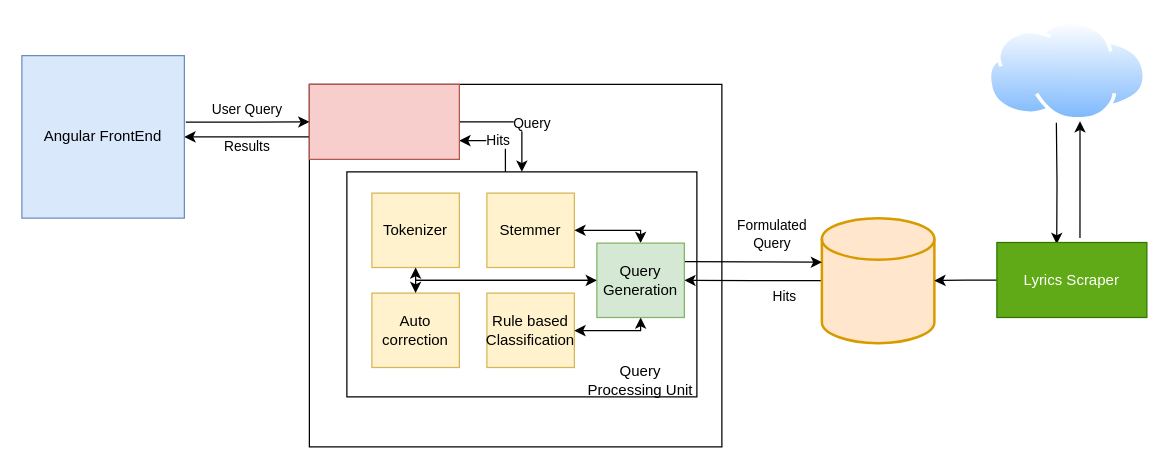
Some shapes in this 1169 by 469 pixel diagram are drawn without their labels. The shapes that lost their labels are listed below. From the top down, each one's box as (x1, y1, x2, y2) in pixels, then its label:
(988, 21, 1146, 121): Web
(308, 83, 459, 159): Flask Server
(820, 216, 935, 344): ElasticSearch Index
